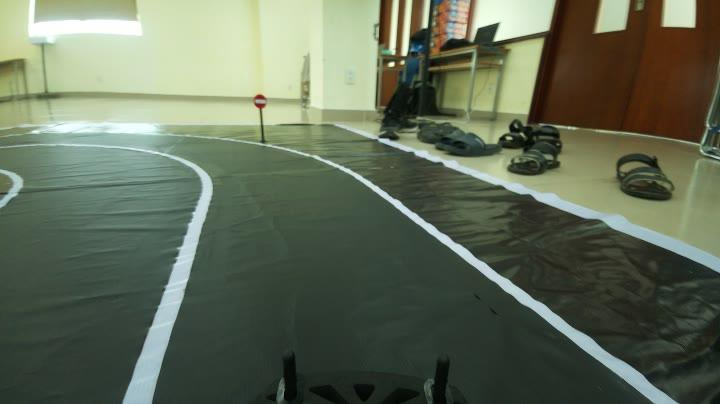no_entry: (248, 93, 272, 108)
